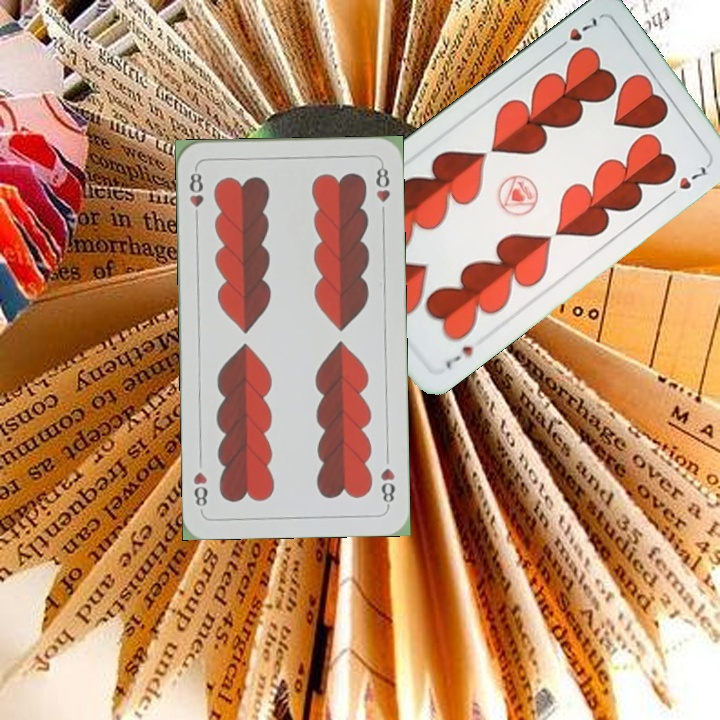H7: (551, 12, 600, 54), (441, 341, 476, 372)
H8: (186, 164, 206, 223), (376, 464, 397, 510)
